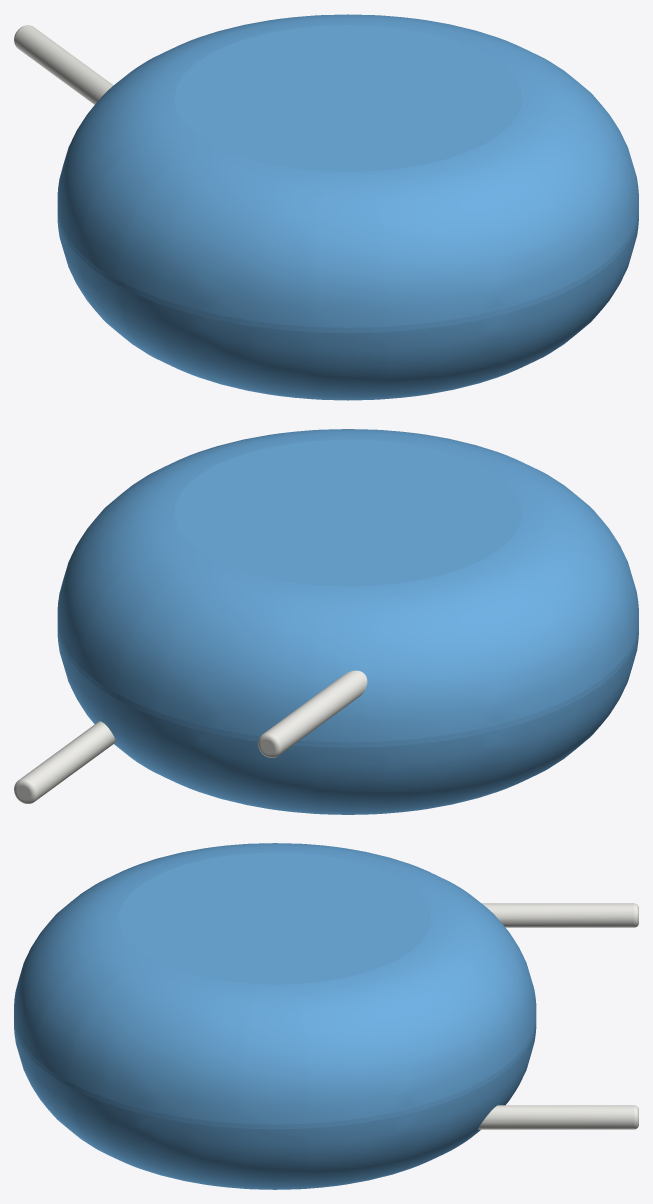
File: RV_Disc_D15.5mm_W6.4mm_P7.5mm.glb
3 views of the same model, one above another, from view 1: azimuth 30°, elevation 25°; view 2: azimuth 150°, elevation 25°; view 3: azimuth 270°, elevation 25° (orthographic). The views are drawn at different scales.
Parts seen in each view (by area): view 1: Shape_IndexedFaceSet.001, Shape_IndexedFaceSet.003, Shape_IndexedFaceSet.002, Shape_IndexedFaceSet, Shape_IndexedFaceSet.004; view 2: Shape_IndexedFaceSet.001, Shape_IndexedFaceSet.003, Shape_IndexedFaceSet.002, Shape_IndexedFaceSet, Shape_IndexedFaceSet.004, Shape_IndexedFaceSet.006; view 3: Shape_IndexedFaceSet.001, Shape_IndexedFaceSet.003, Shape_IndexedFaceSet.002, Shape_IndexedFaceSet.006, Shape_IndexedFaceSet.004, Shape_IndexedFaceSet.
Boxes of the visible parts, bbox=[...] form: Shape_IndexedFaceSet.001: bbox=[57, 14, 638, 327]; Shape_IndexedFaceSet.003: bbox=[175, 25, 521, 171]; Shape_IndexedFaceSet.002: bbox=[57, 218, 638, 400]; Shape_IndexedFaceSet: bbox=[57, 213, 638, 333]; Shape_IndexedFaceSet.004: bbox=[14, 25, 113, 104]; Shape_IndexedFaceSet.001: bbox=[57, 429, 638, 742]; Shape_IndexedFaceSet.003: bbox=[174, 439, 521, 586]; Shape_IndexedFaceSet.002: bbox=[57, 632, 638, 814]; Shape_IndexedFaceSet: bbox=[57, 627, 638, 747]; Shape_IndexedFaceSet.004: bbox=[264, 670, 367, 754]; Shape_IndexedFaceSet.006: bbox=[19, 721, 115, 800]; Shape_IndexedFaceSet.001: bbox=[14, 843, 536, 1124]; Shape_IndexedFaceSet.003: bbox=[119, 852, 430, 984]; Shape_IndexedFaceSet.002: bbox=[14, 1026, 536, 1189]; Shape_IndexedFaceSet.006: bbox=[478, 1105, 633, 1129]; Shape_IndexedFaceSet.004: bbox=[482, 903, 633, 927]; Shape_IndexedFaceSet: bbox=[14, 1021, 536, 1129].
Size of the model in its own units: 6.1 by 2.52 by 7.29.
